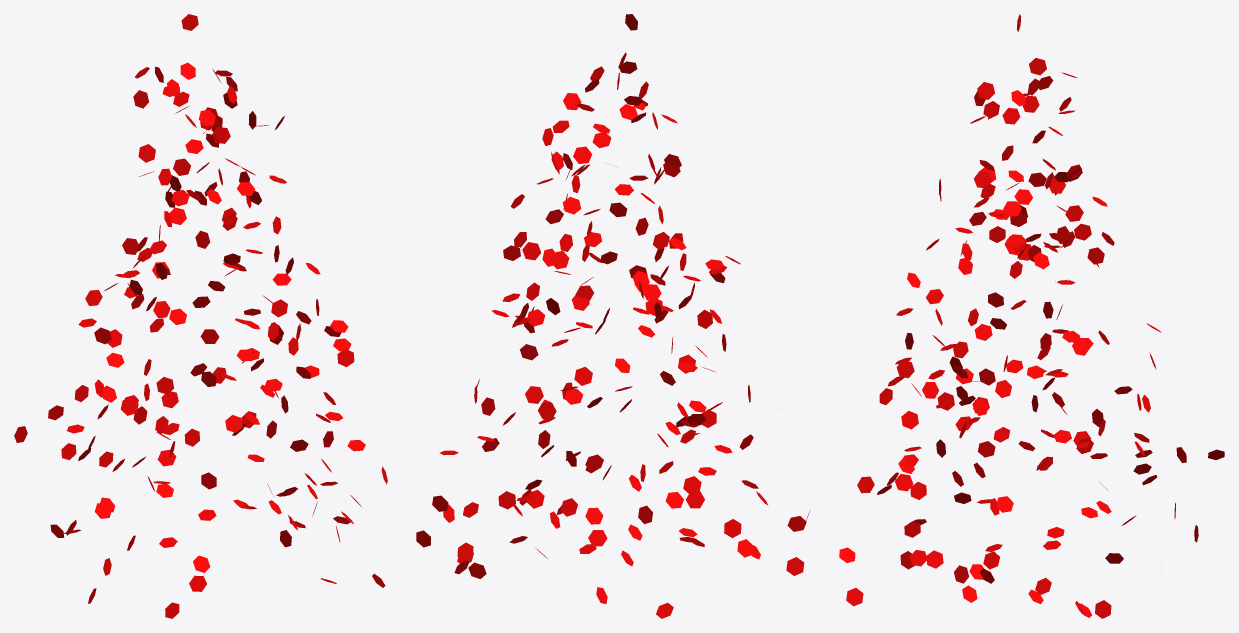
The model's file is SM_FirGuirland.FBX.
3 views of the same model, side by side, from view 1: azimuth 30°, elevation 25°; view 2: azimuth 150°, elevation 25°; view 3: azimuth 270°, elevation 25° (orthographic). The views are drawn at different scales.
Visible parts, largest first — view 1: SM_FirGuirland; view 2: SM_FirGuirland; view 3: SM_FirGuirland.
Boxes of the visible parts, left/top/right/bottom form: SM_FirGuirland: left=14, top=14, right=387, bottom=618; SM_FirGuirland: left=416, top=14, right=809, bottom=618; SM_FirGuirland: left=839, top=14, right=1224, bottom=618.
Size of the model in its own units: 436 by 448 by 701.
